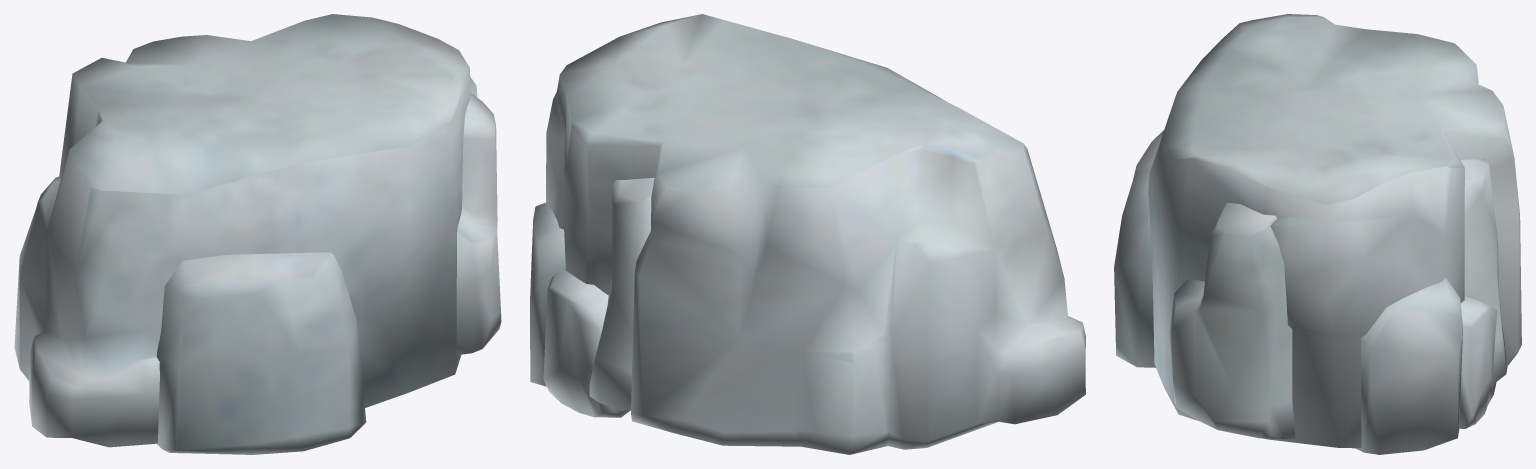
Rendered from P_RockSpire_Shelf03.obj.
3 views of the same model, side by side, from view 1: azimuth 30°, elevation 25°; view 2: azimuth 150°, elevation 25°; view 3: azimuth 270°, elevation 25° (orthographic). The views are drawn at different scales.
Bounding box in the file's own units: 37.61 × 21.45 × 28.64.
